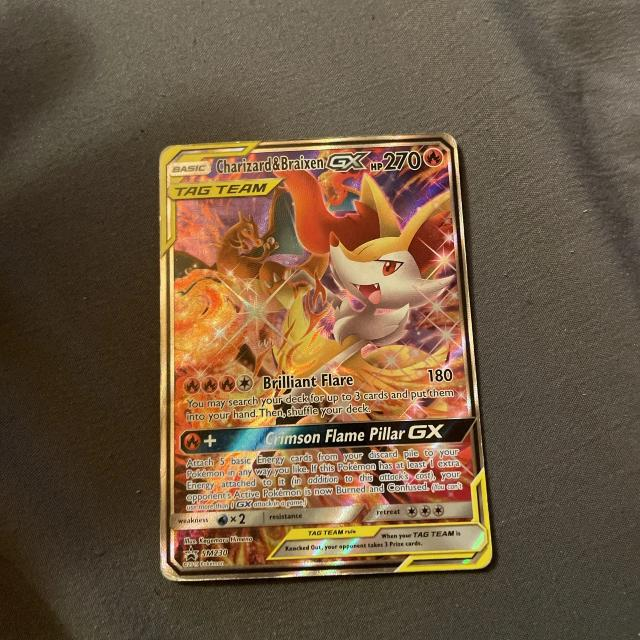Card: (152, 124, 504, 593)
Name: (209, 148, 374, 180)
